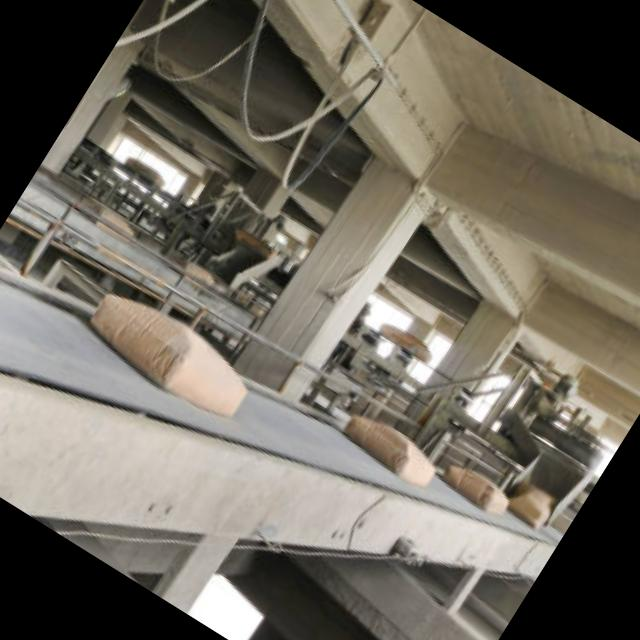KantongSemen: (75, 275, 262, 428)
